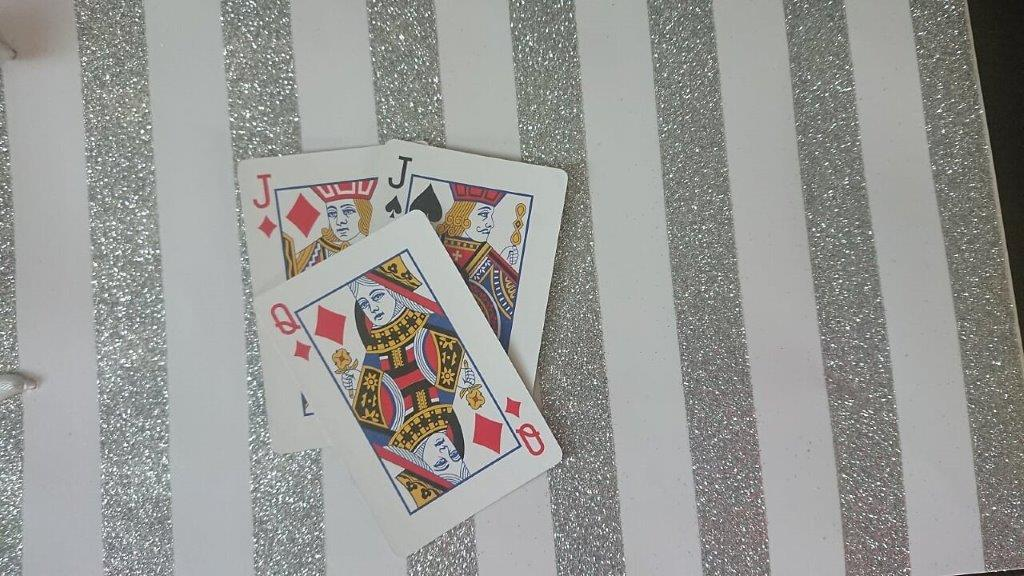JD: (244, 163, 293, 250)
JS: (379, 147, 416, 226)
QD: (263, 292, 324, 368)
